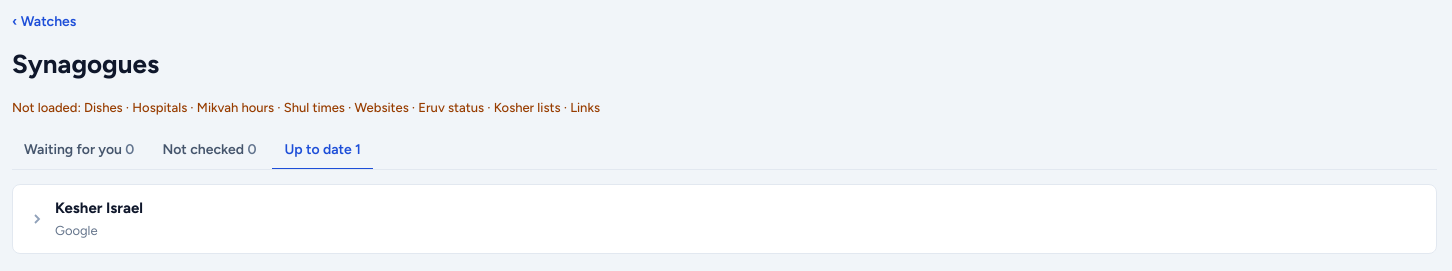
Test: WatchKindPage › says where an up-to-date place is read from
This screenshot has width=1452, height=271.
Click the tab "Up to date 1".
click(323, 151)  # box [272, 132, 373, 170]
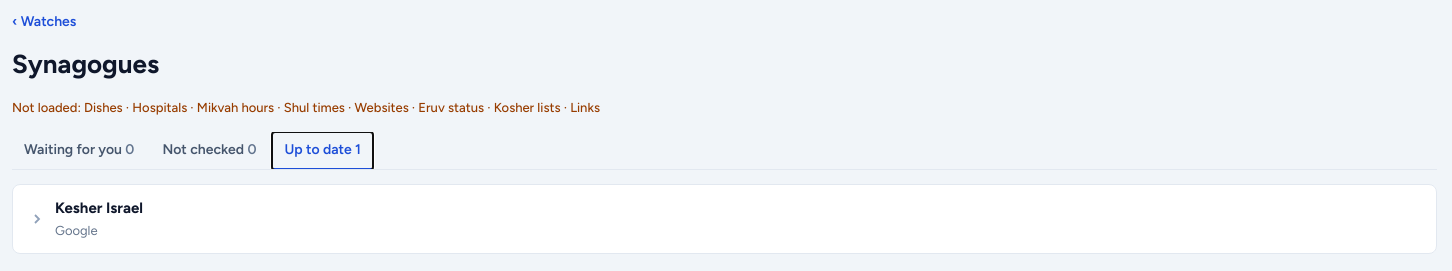
Click the tab "Waiting for you 0".
click(79, 151)  # box [12, 132, 146, 170]
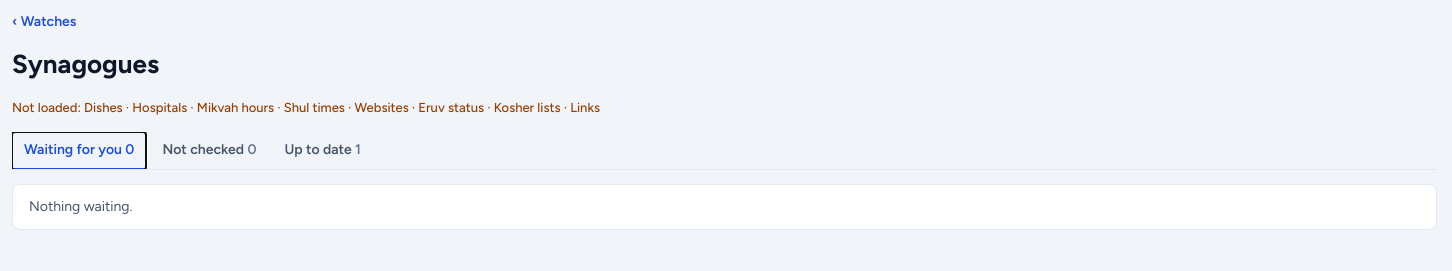
Expected: the text "Nothing waiting." is shown, [12, 184, 1437, 230]
